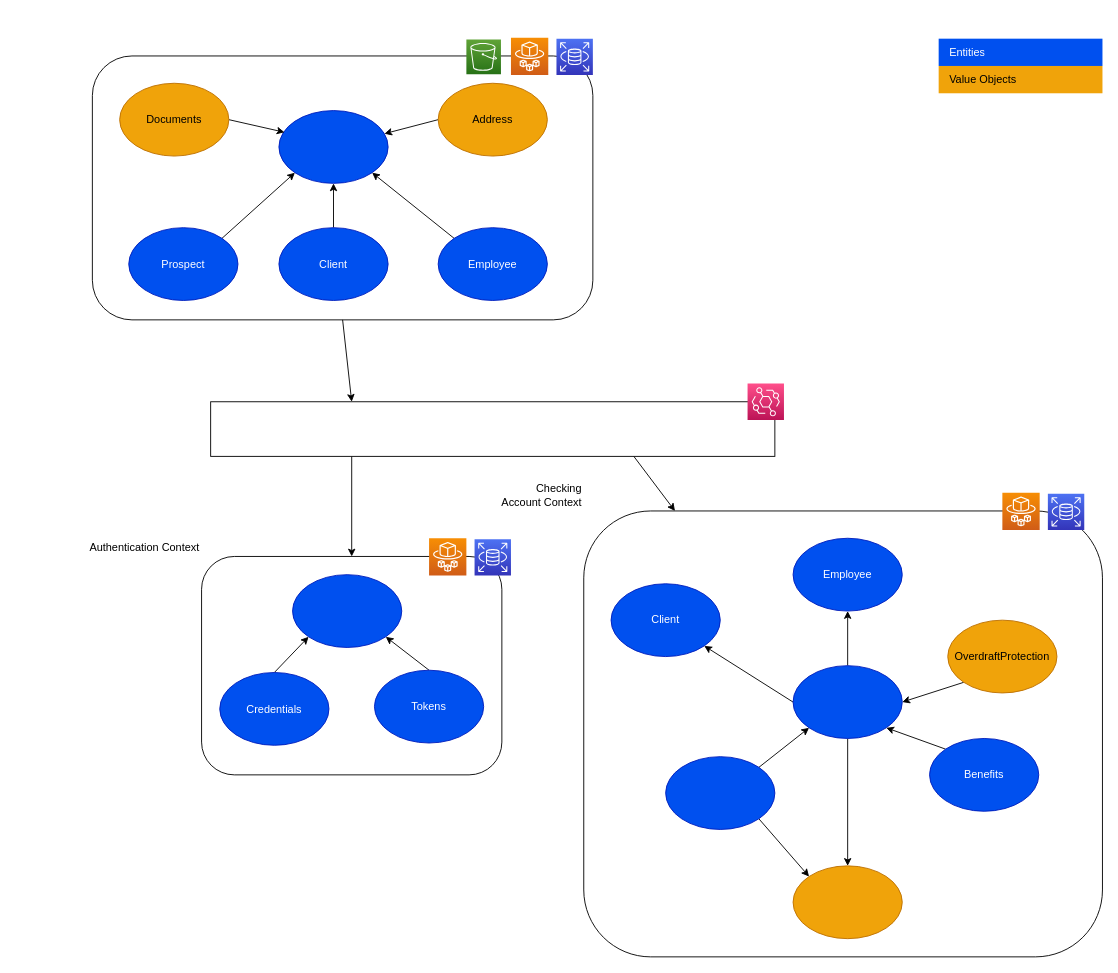
This 1118x973 diagram has some shape labels left out. The box of each missing label's shape, as (x1, y1, x2, y2) in pixels:
Checking Account: (792, 665, 902, 738)
Money: (792, 865, 902, 939)
People ACL: (210, 401, 775, 456)
People Context: (91, 55, 593, 320)
Person: (278, 110, 388, 183)
Transaction: (665, 756, 775, 829)
User: (292, 574, 402, 647)
